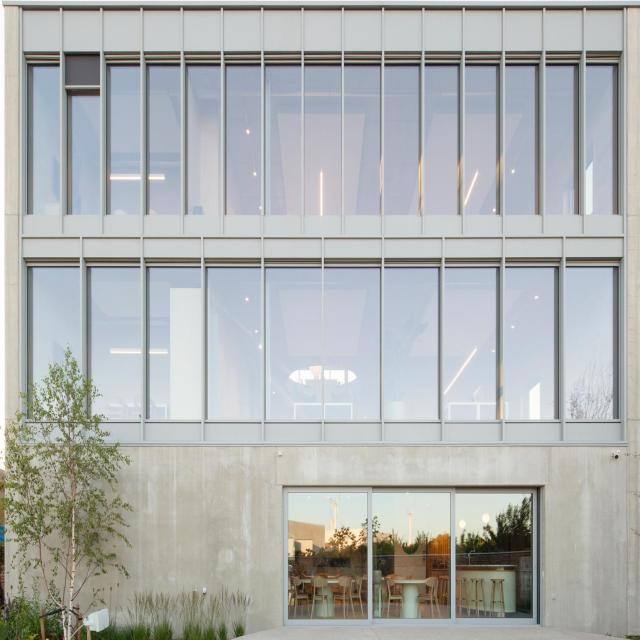door: (283, 486, 541, 626)
plant: (0, 344, 133, 639)
wall: (4, 0, 640, 639)
windows: (27, 264, 622, 421), (25, 60, 622, 214)
